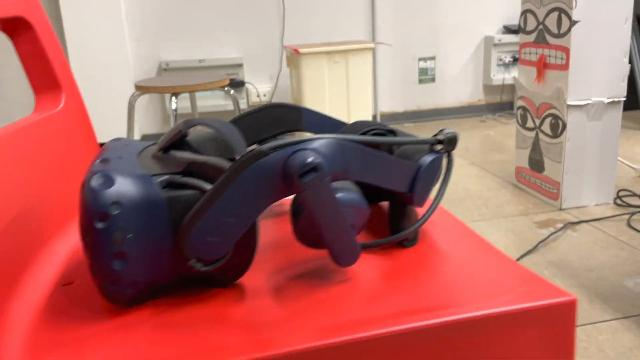Chair: (1, 0, 594, 360)
Stool: (122, 64, 244, 148)
